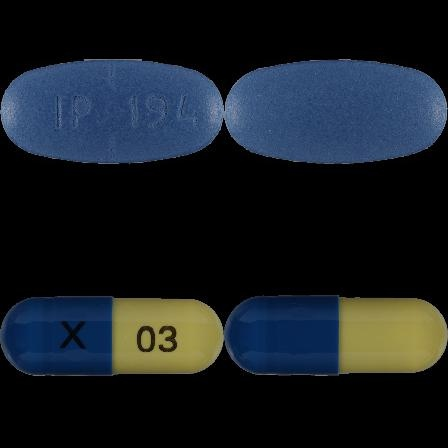55700-073: (0, 0, 224, 224)
